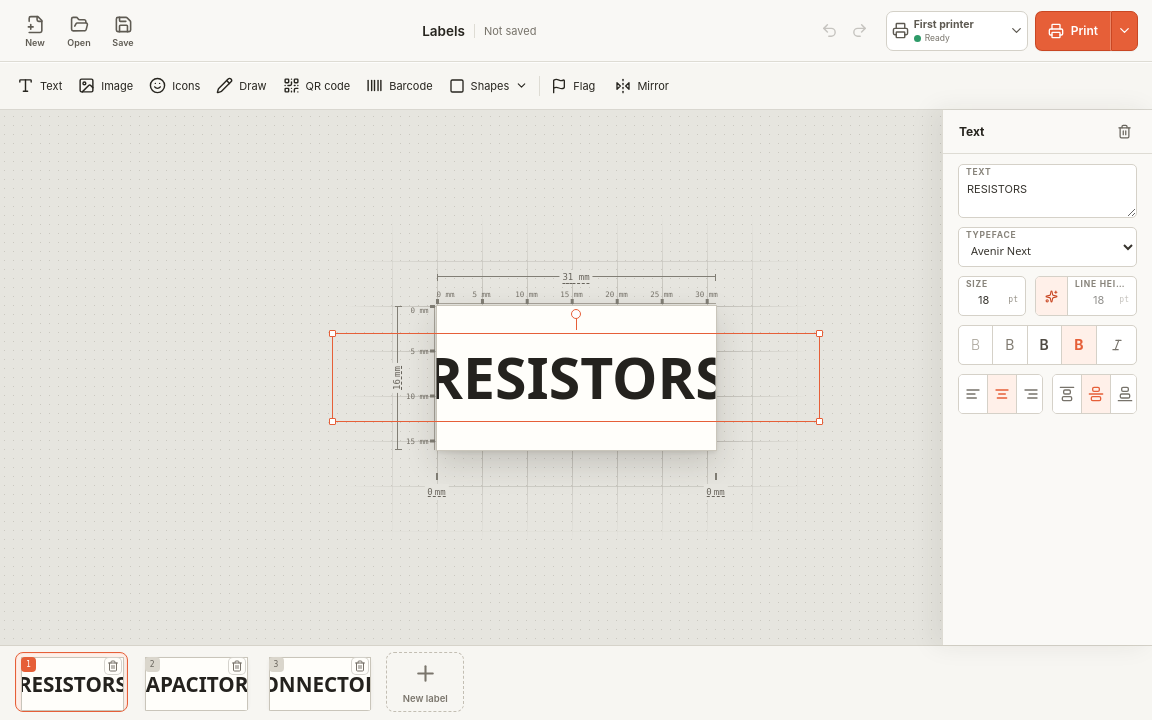
Scenario: LabelmakerApp › does not report success when a host keeps the removed printer
This screenshot has width=1152, height=720.
Click the button with aria-label "Selected printer: First printer".
click(957, 30)  # box [886,10,1028,50]
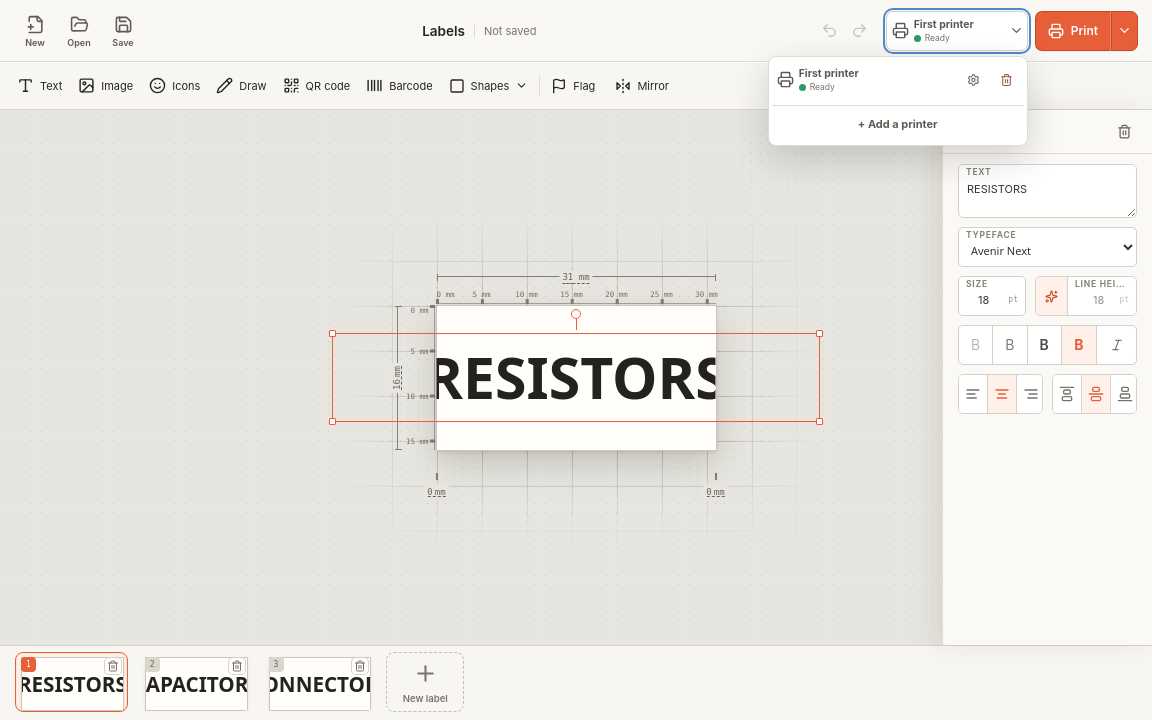
Click the button named "Remove First printer".
click(1006, 80)  # box [994,67,1019,92]
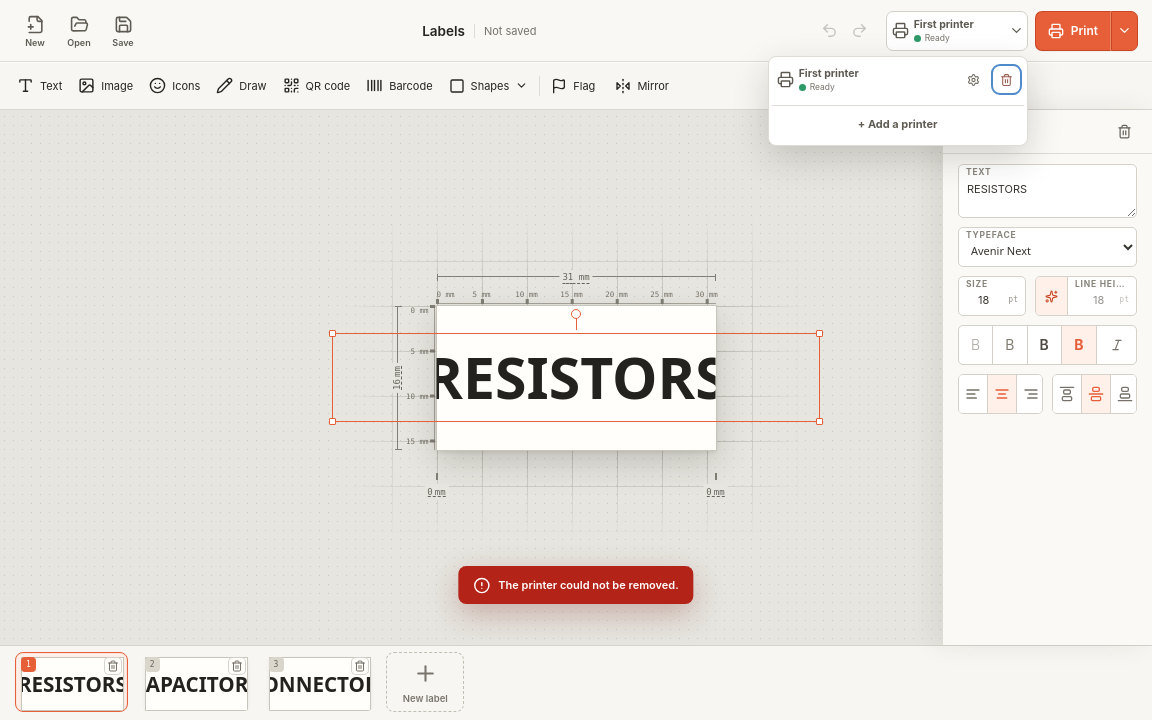
Expected: the text "The printer could not be removed." is shown, [498,578,679,592]
